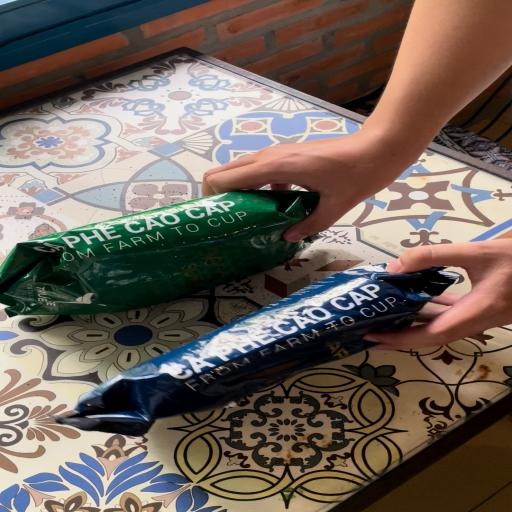cafe_hat: (56, 264, 458, 436)
cafe_xay: (0, 190, 319, 316)
